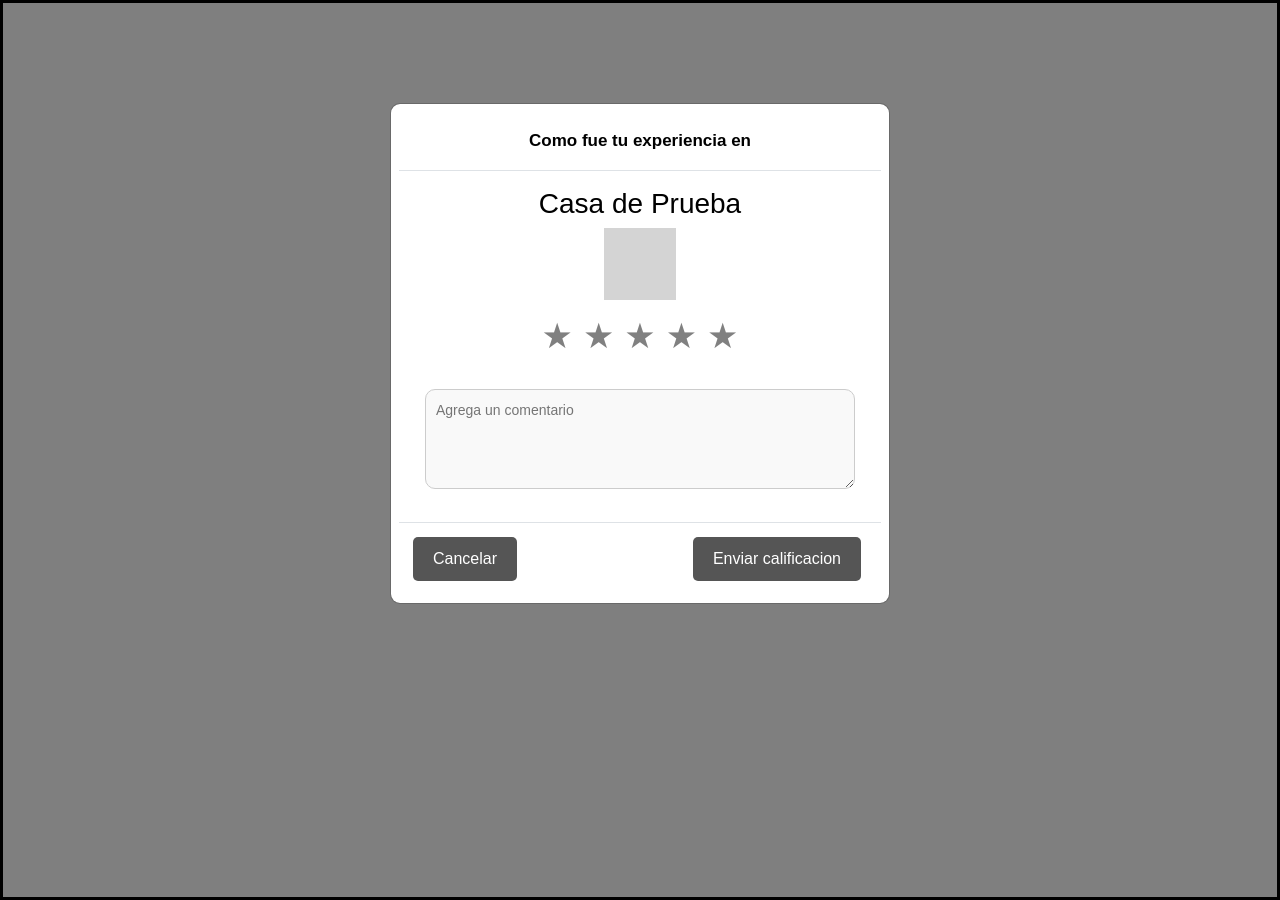
ServiceRating Componente › Interaccion con Calificacion de Estrellas › debe mostrar todas las descripciones de calificacion de estrellas correctamente
Expected: the heading "Casa de Prueba" is shown, [539,186,741,220]
Click the 1st button "★": click(557, 336) [542,310,573,363]
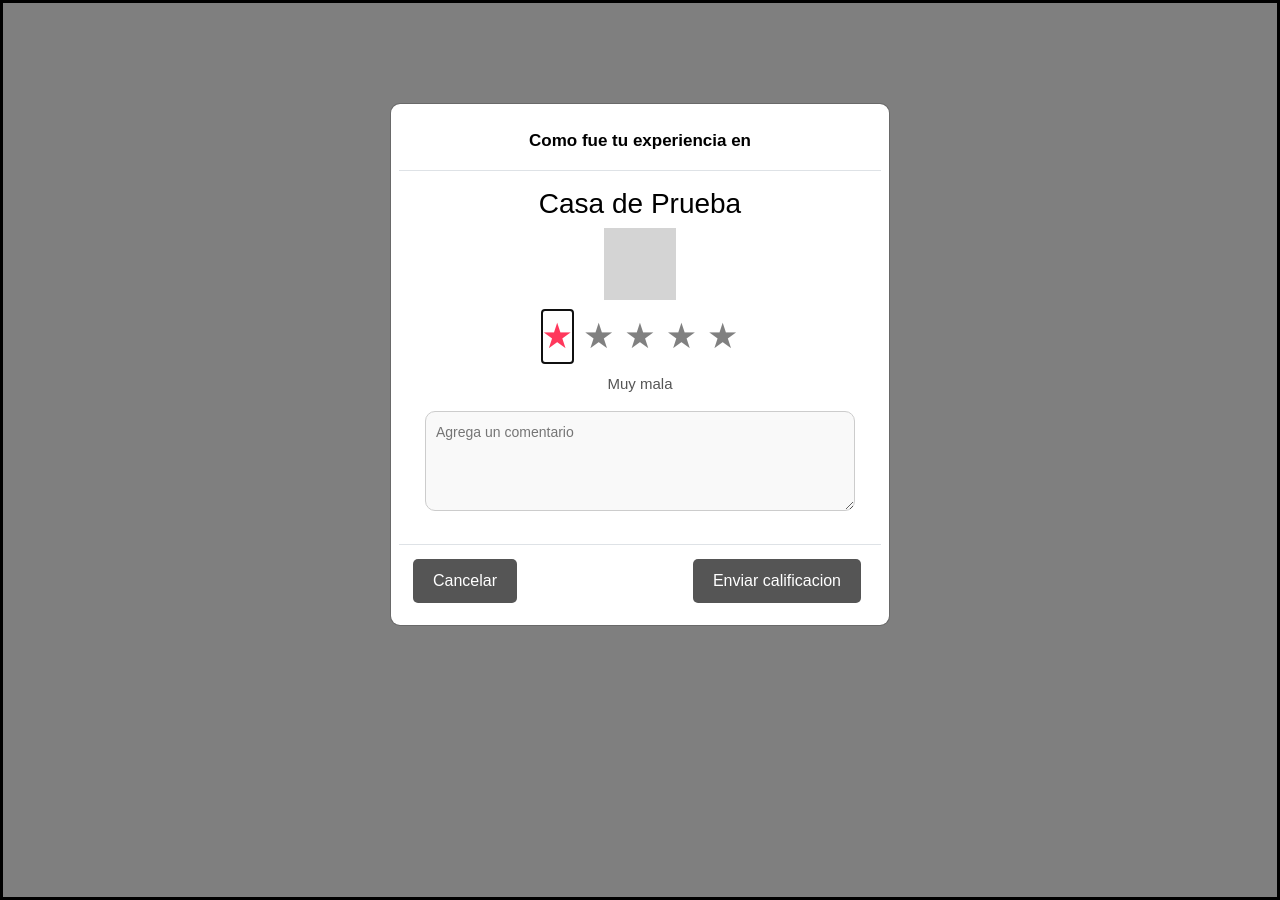
Now the text "Muy mala" is shown, box [608,375,672,392]
Click the 2nd button "★": click(599, 336) [583,310,614,363]
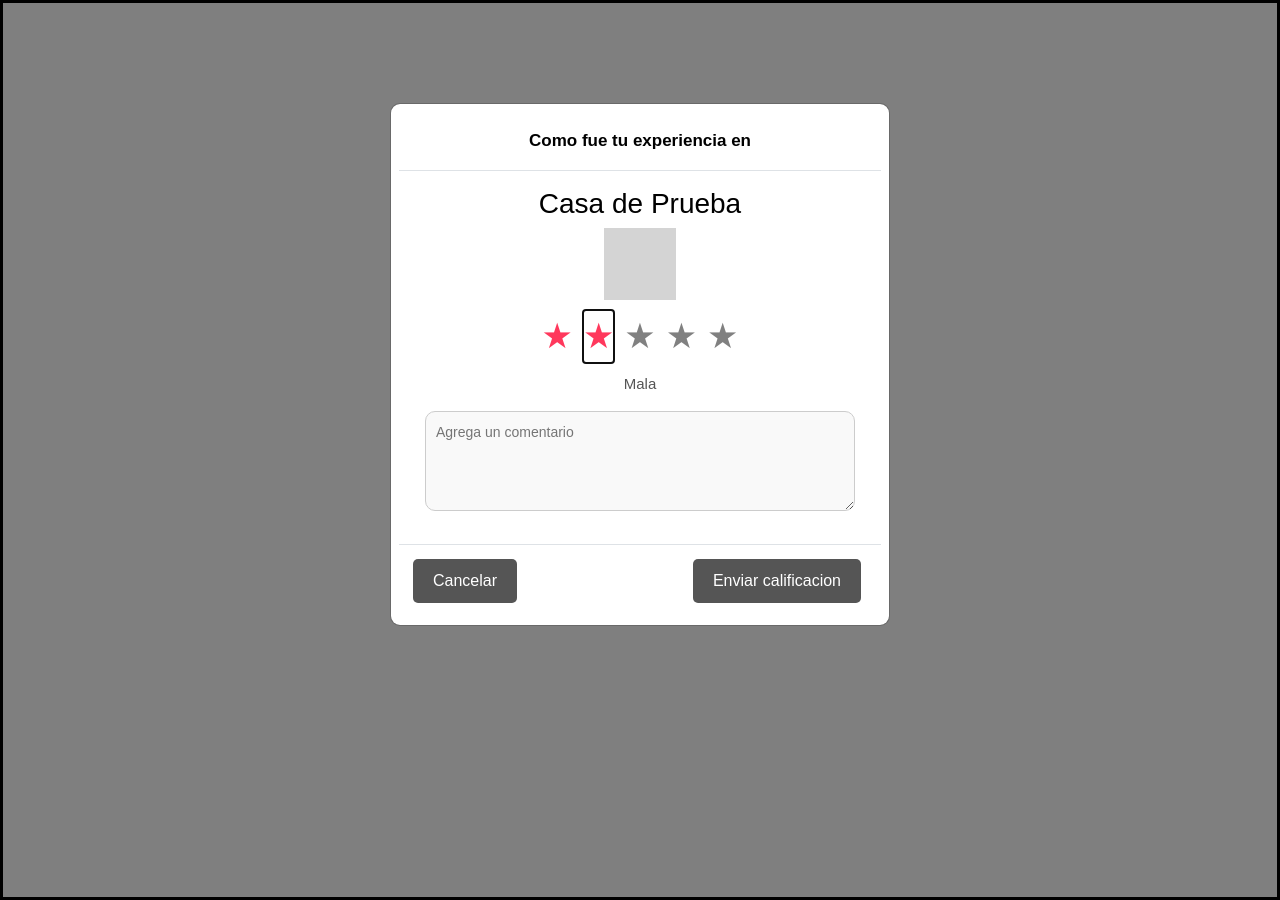
Now the text "Mala" is shown, box [624,375,656,392]
Click the 3rd button "★": click(640, 336) [624,310,656,363]
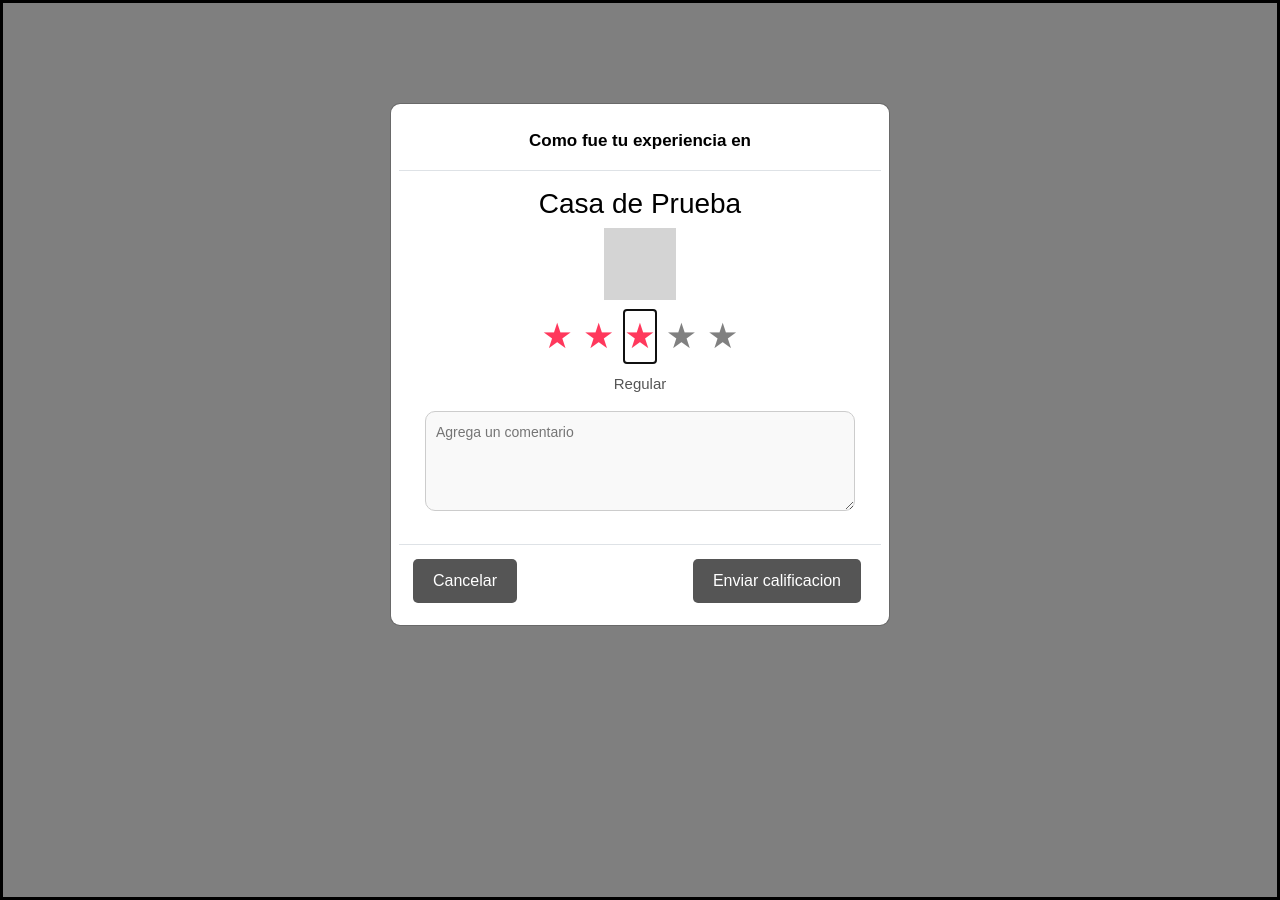
Now the text "Regular" is shown, box [614,375,666,392]
Click the 4th button "★": click(681, 336) [666,310,697,363]
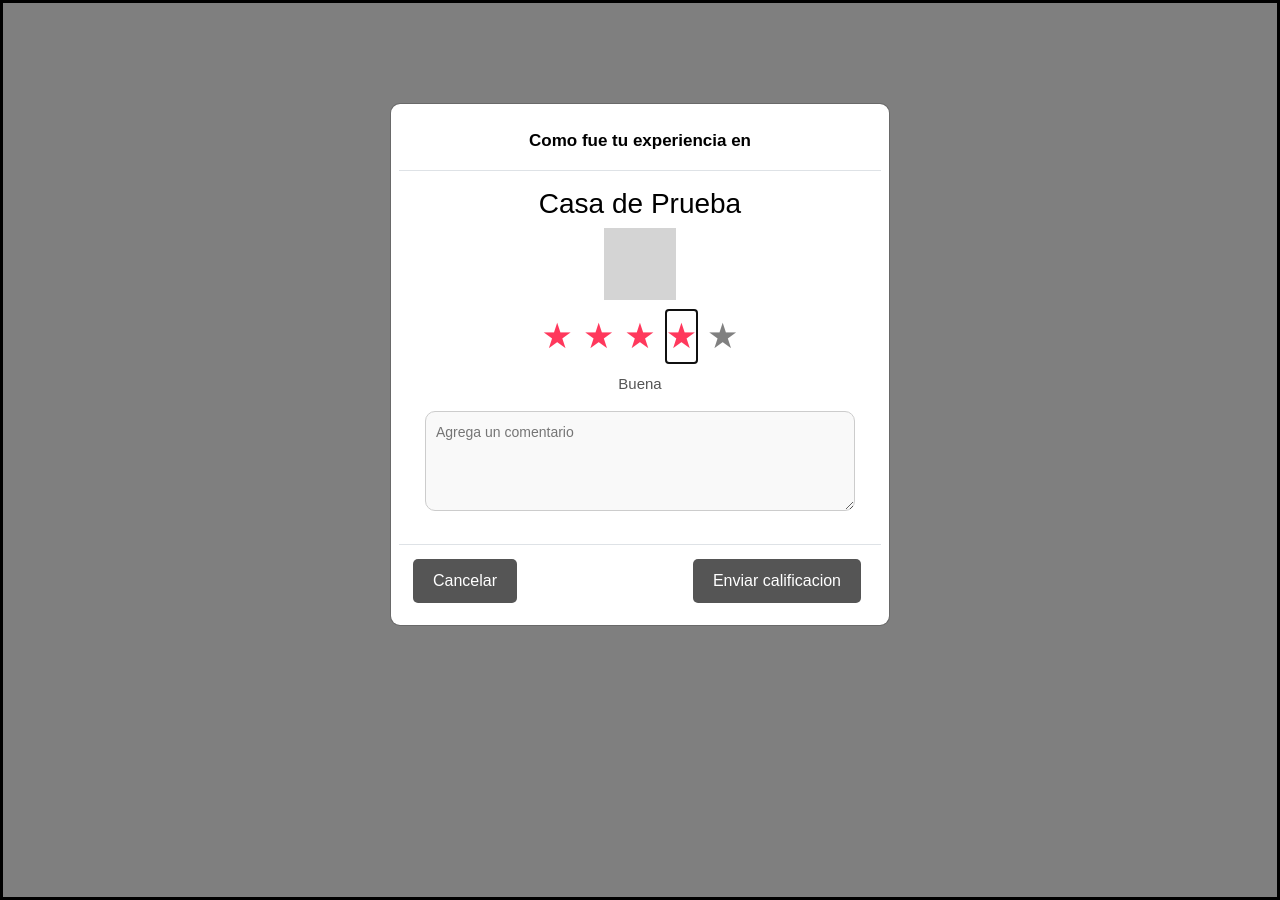
Now the text "Buena" is shown, box [618,375,662,392]
Click the 5th button "★": click(723, 336) [707,310,738,363]
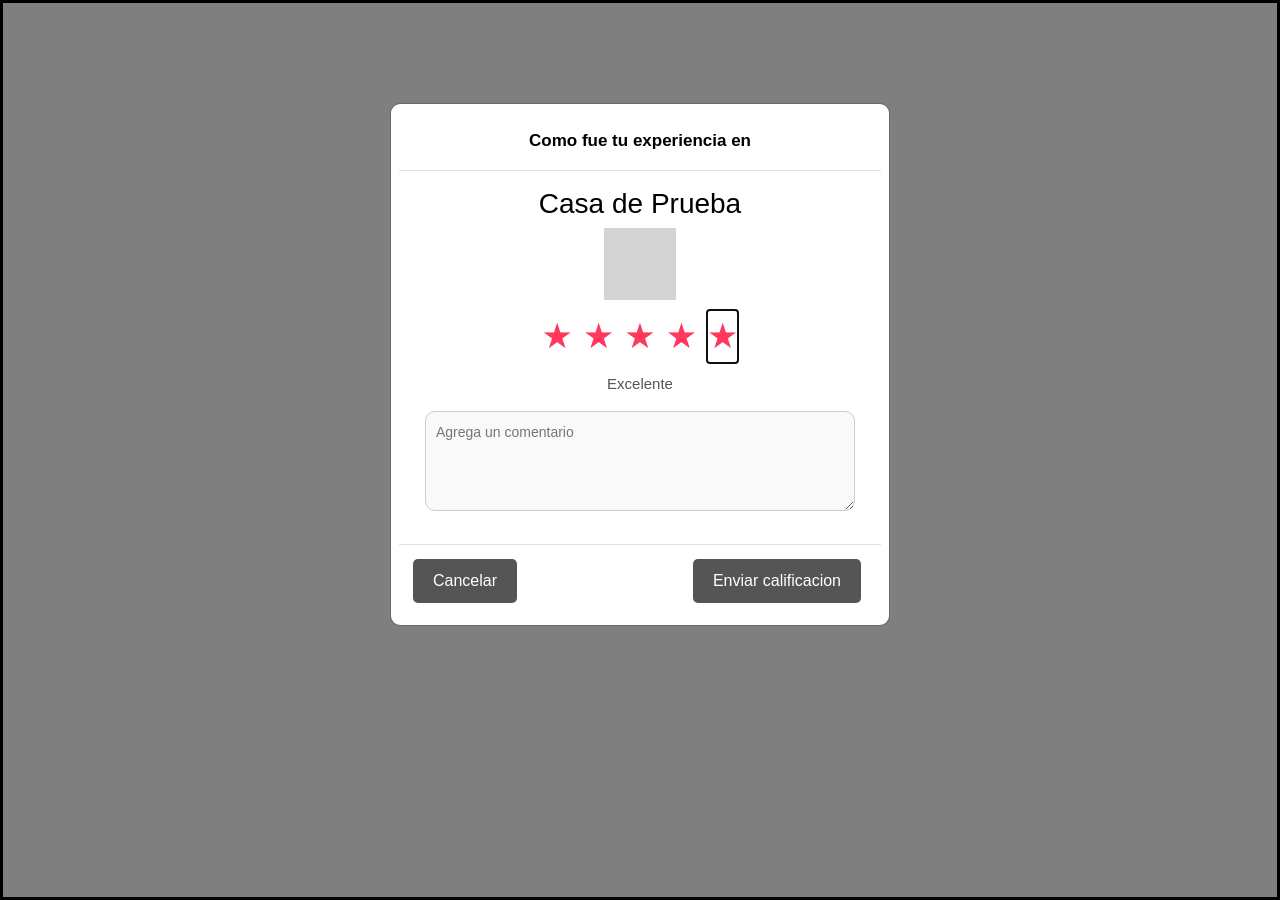
Now the text "Excelente" is shown, box [607,375,673,392]
